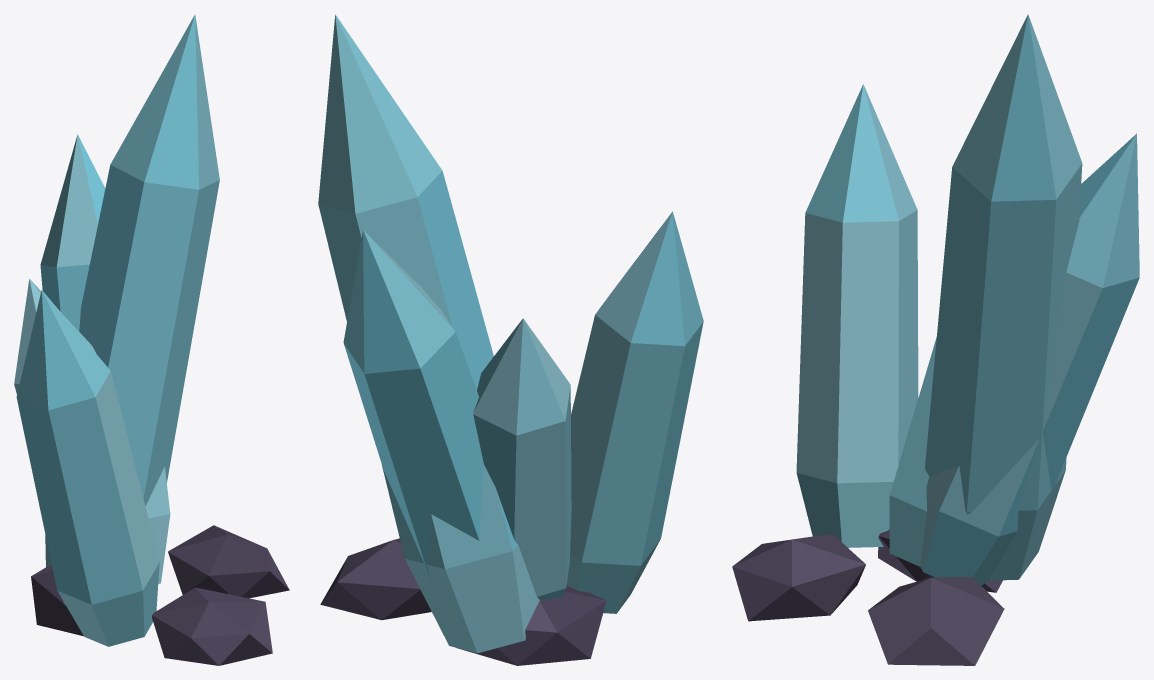
Rendered from Crystal_Cyan_A.fbx.
3 renders of one model, left to right at view 1: azimuth 30°, elevation 25°; view 2: azimuth 150°, elevation 25°; view 3: azimuth 270°, elevation 25°, orthographic. The views are drawn at different scales.
Parts seen in each view (by area): view 1: Crystal_Cyan_A; view 2: Crystal_Cyan_A; view 3: Crystal_Cyan_A.
Boxes of the visible parts, bbox=[...] form: Crystal_Cyan_A: bbox=[14, 14, 289, 665]; Crystal_Cyan_A: bbox=[318, 14, 703, 665]; Crystal_Cyan_A: bbox=[732, 14, 1139, 665].
Size of the model in its own units: 1.12 by 2.09 by 1.22.
